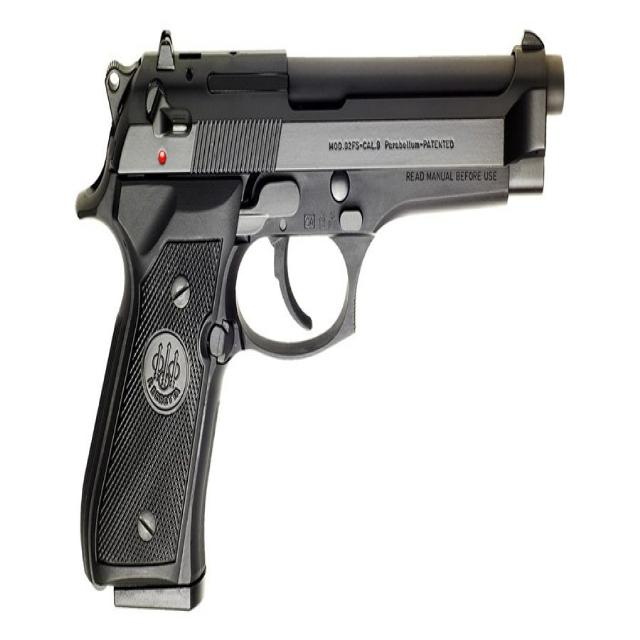Gun: (68, 20, 558, 640)
